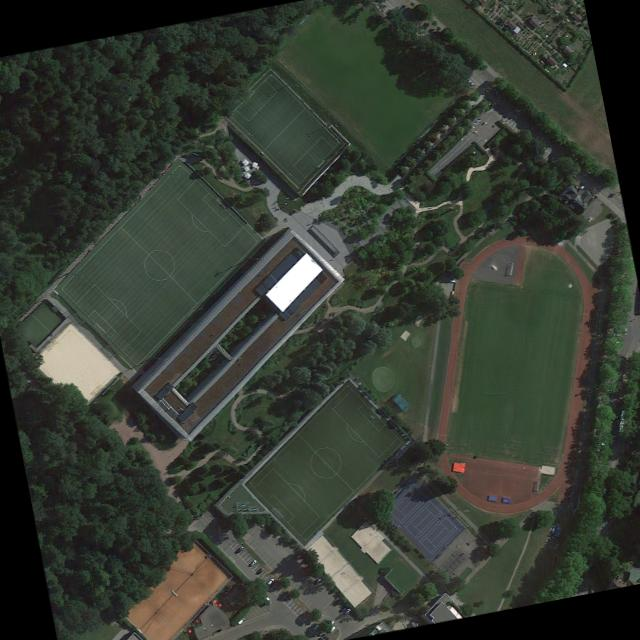small-vehicle: (234, 545, 243, 554), (254, 566, 264, 574), (265, 577, 275, 585), (248, 558, 256, 566), (313, 578, 320, 586), (311, 624, 318, 631), (343, 607, 350, 614), (339, 606, 346, 613), (317, 629, 323, 635)
